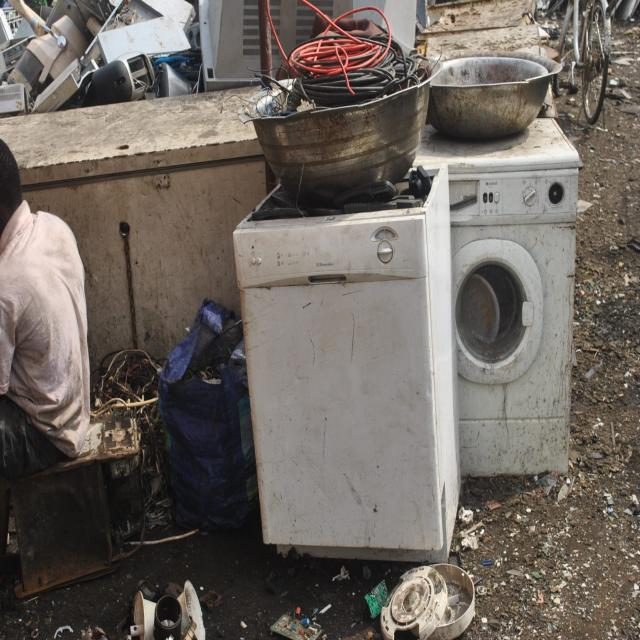Cable: (253, 5, 437, 105)
Metal: (253, 94, 436, 208), (440, 45, 561, 136)
Plastics: (236, 220, 477, 569)
